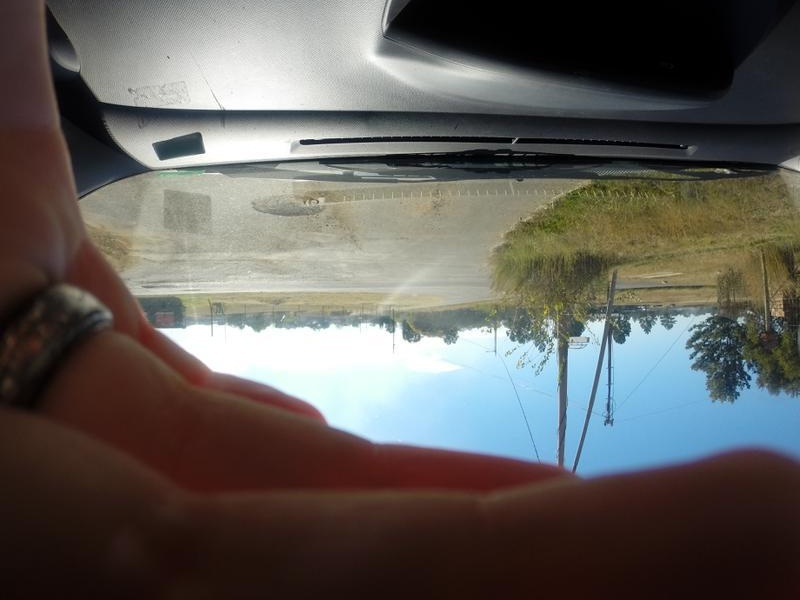pothole: (252, 195, 326, 224), (140, 286, 169, 290), (175, 289, 201, 293)
